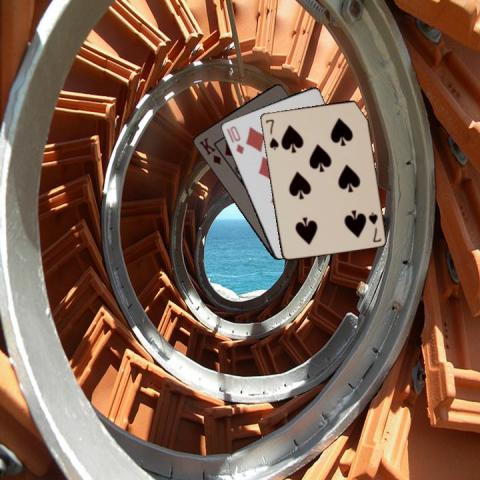10d: (226, 123, 244, 156)
7s: (263, 116, 280, 151), (365, 209, 382, 243)
Kd: (195, 135, 222, 166)
